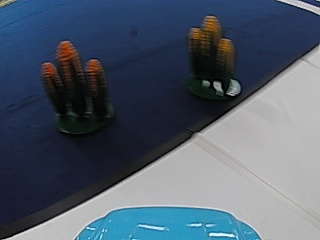corn: (41, 42, 114, 138), (186, 12, 241, 101)
